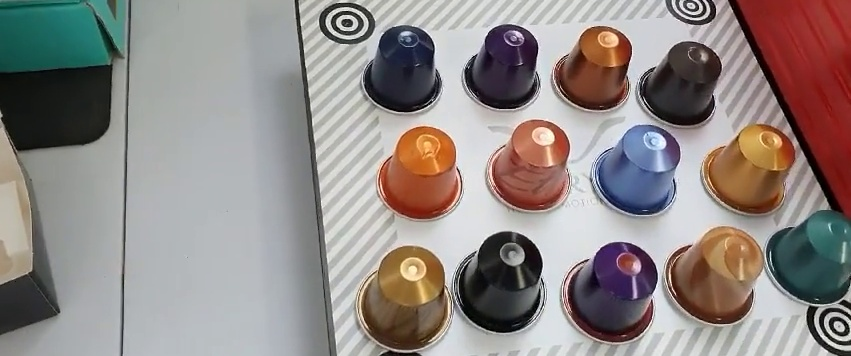capsule_1: (359, 25, 443, 117)
capsule_10: (452, 230, 545, 331)
capsule_11: (561, 243, 659, 347)
capsule_12: (662, 224, 763, 329)
capsule_13: (768, 207, 851, 307)
capsule_2: (462, 22, 543, 110)
capsule_3: (550, 22, 637, 114)
capsule_4: (638, 40, 719, 125)
capsule_5: (372, 125, 463, 222)
capsule_6: (488, 116, 574, 214)
capsule_7: (591, 124, 682, 216)
capsule_8: (696, 121, 795, 216)
capsule_9: (349, 242, 448, 352)
